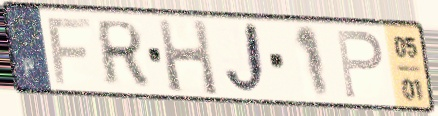1: (291, 23, 333, 102)
F: (44, 15, 94, 87)
H: (154, 16, 222, 99)
J: (222, 19, 270, 100)
P: (333, 27, 386, 102)
R: (95, 17, 150, 88)
